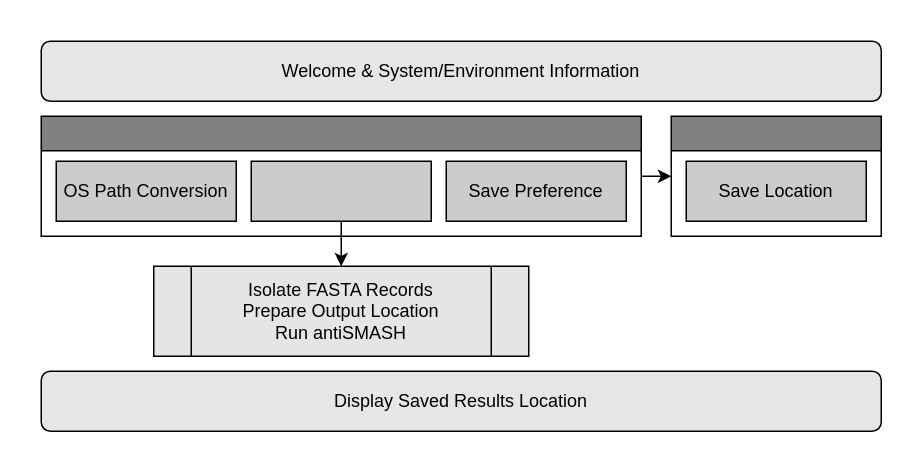
This 921x471 diagram has some shape labels left out. Each missing label, with the box of its shape:
Input Location: (250, 160, 431, 221)
Mandatory User Information: (40, 115, 641, 236)
Optional: (670, 115, 881, 236)
